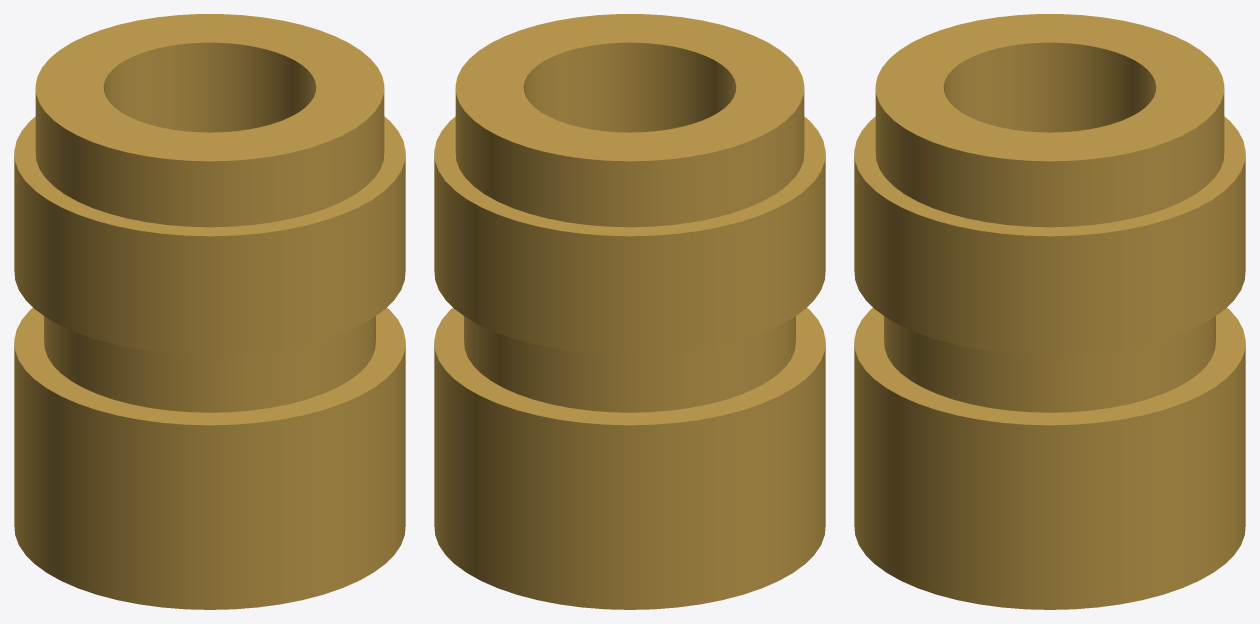
The model's file is insert.glb.
3 views of the same model, side by side, from view 1: azimuth 30°, elevation 25°; view 2: azimuth 150°, elevation 25°; view 3: azimuth 270°, elevation 25° (orthographic).
Parts seen in each view (by area): view 1: insert brass; view 2: insert brass; view 3: insert brass.
Boxes of the visible parts, left/top/right/bottom form: insert brass: left=14, top=14, right=405, bottom=609; insert brass: left=434, top=14, right=825, bottom=609; insert brass: left=854, top=14, right=1245, bottom=609.
Size of the model in its own units: 0.0046 by 0.0057 by 0.0046.
